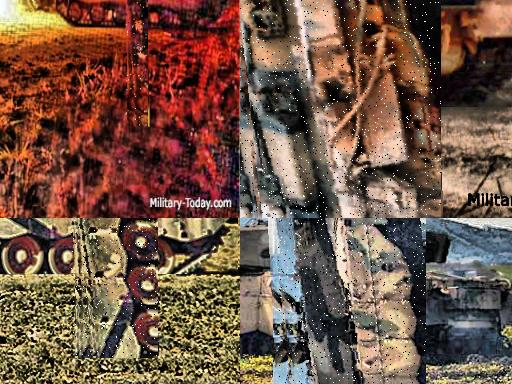tanks: (241, 1, 442, 219), (280, 219, 427, 384), (75, 219, 159, 358), (127, 1, 148, 127)
